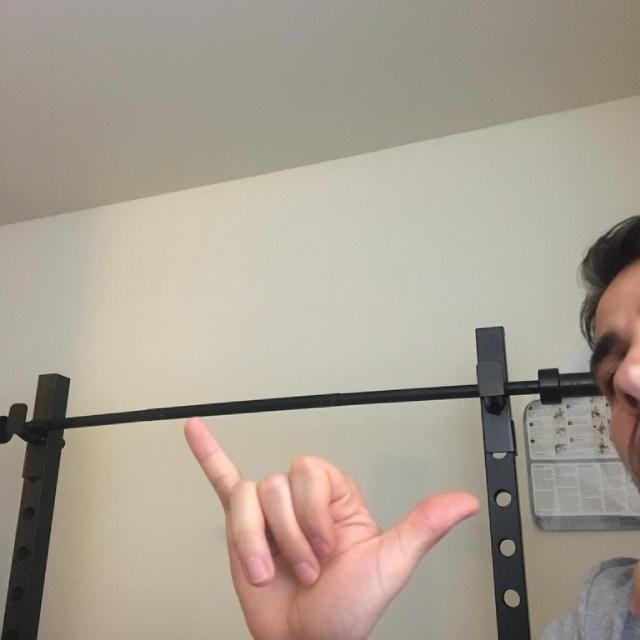Y: (178, 355, 524, 640)
